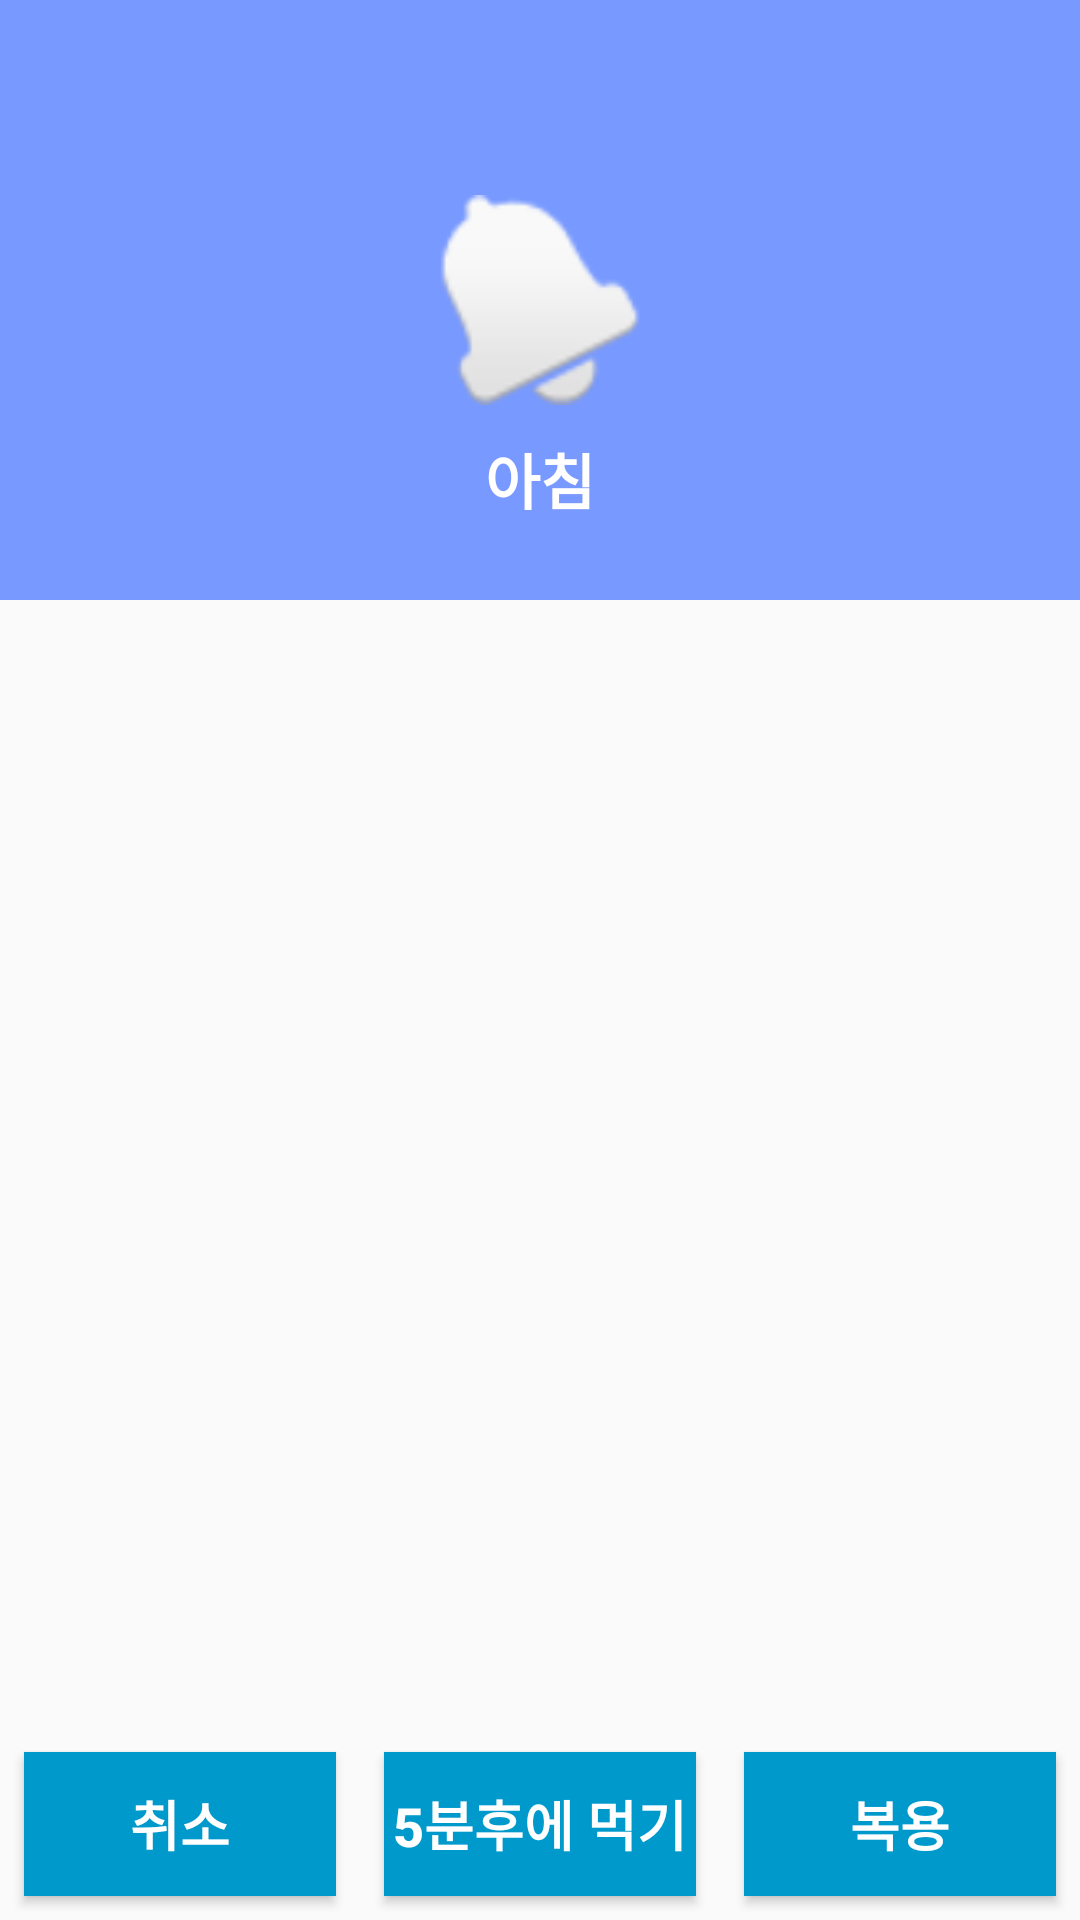

Where icons sit on this 1080w x 1920h app screen, as bbox=(x1, y1, x2, y2):
popup reminder: bbox=(442, 195, 638, 405)
